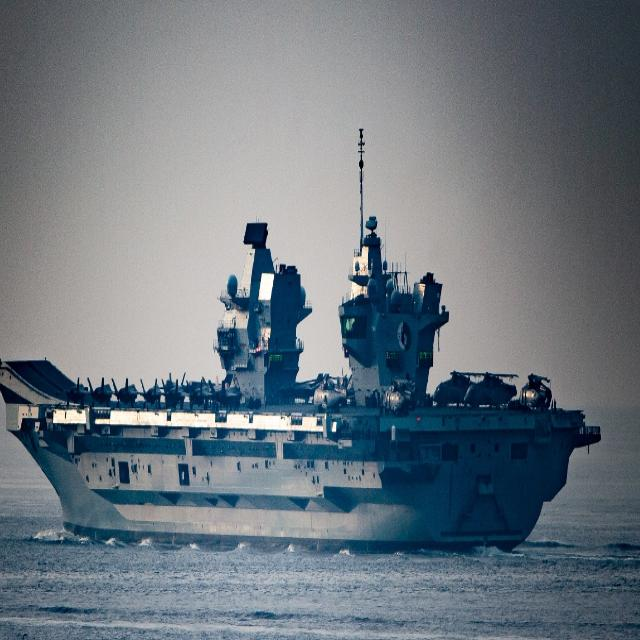navalvessels: (0, 125, 605, 569)
